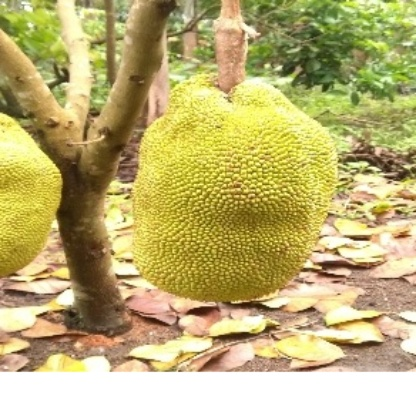mit: (118, 56, 353, 330), (0, 107, 65, 280)
